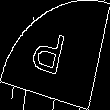P_S: (35, 26, 75, 84)
